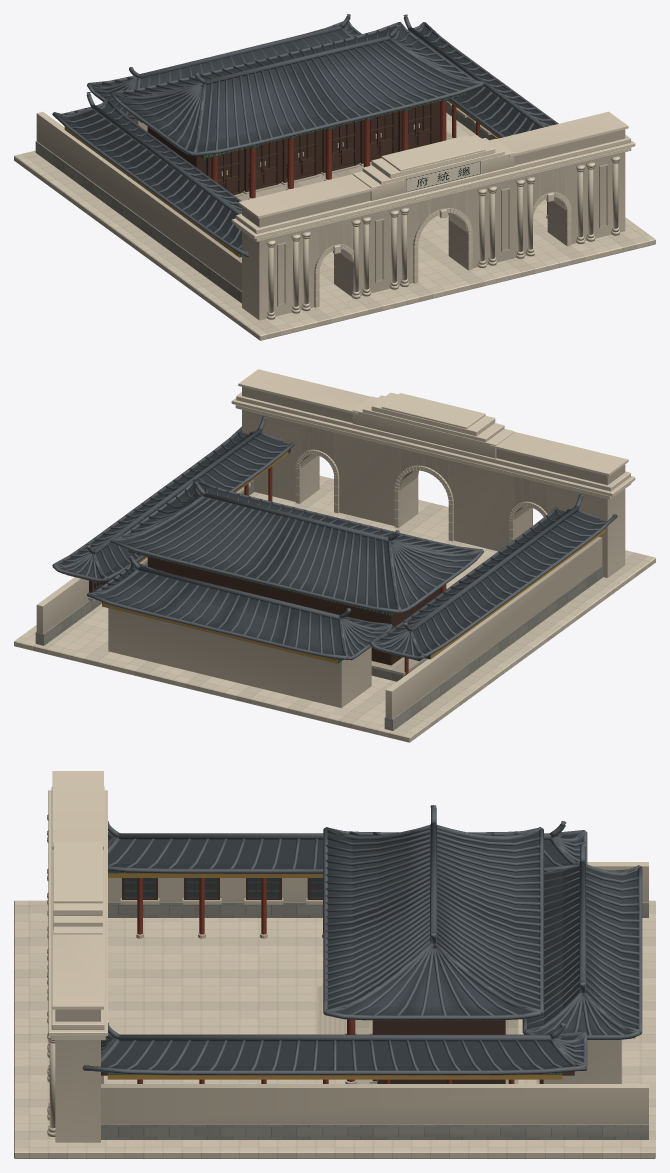
Rendered from presidential.glb.
3 renders of one model, top to bottom at view 1: azimuth 30°, elevation 25°; view 2: azimuth 150°, elevation 25°; view 3: azimuth 270°, elevation 25°, orthographic. The views are drawn at different scales.
Visible parts, largest first — view 1: 总统府_WEB_建筑; view 2: 总统府_WEB_建筑; view 3: 总统府_WEB_建筑.
Boxes of the visible parts, x1,y1,x2,y2 form: 总统府_WEB_建筑: (14, 14, 655, 340); 总统府_WEB_建筑: (14, 369, 655, 742); 总统府_WEB_建筑: (14, 771, 655, 1158).
Size of the model in its own units: 26 by 7.9 by 28.
Materials: 12 (4 with a texture image).
